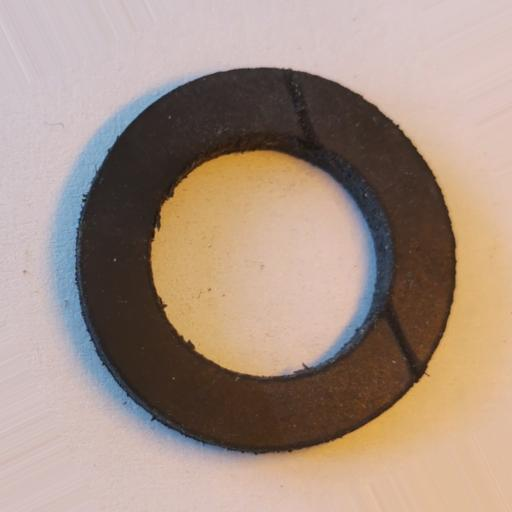defect: (379, 298, 427, 382), (284, 68, 320, 154)
